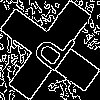P: (25, 25, 79, 81)
